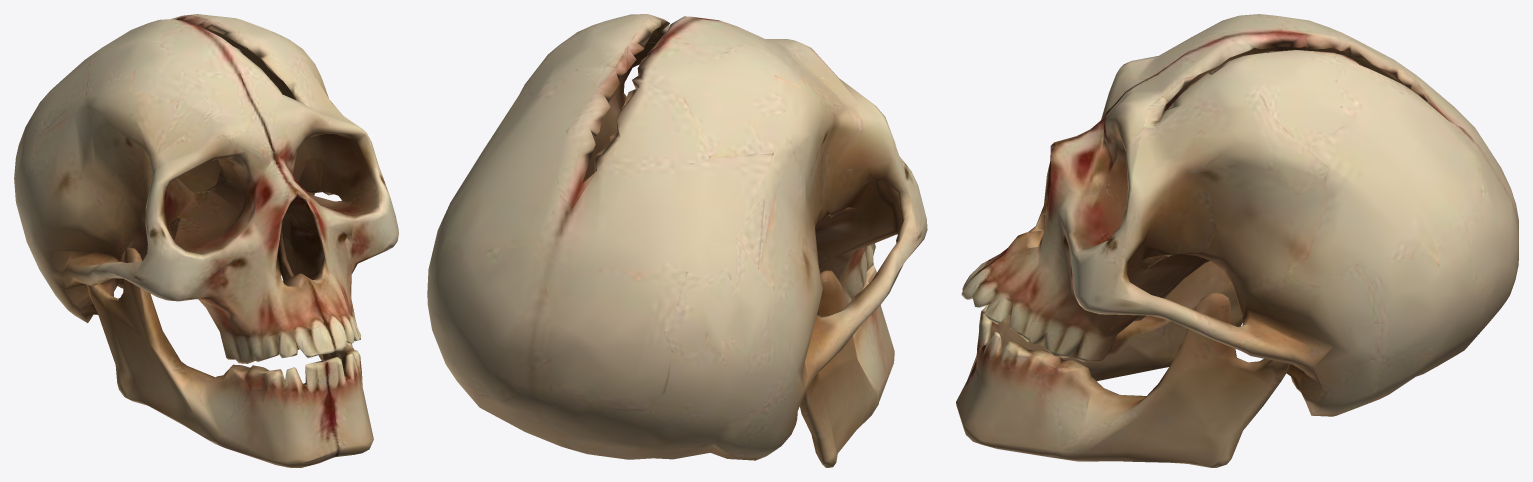
The model's file is skull4.glb.
3 renders of one model, left to right at view 1: azimuth 30°, elevation 25°; view 2: azimuth 150°, elevation 25°; view 3: azimuth 270°, elevation 25°, orthographic. The views are drawn at different scales.
Parts seen in each view (by area): view 1: Mesh_0; view 2: Mesh_0; view 3: Mesh_0.
Part boxes in pixels (<box>): Mesh_0: <box>14,14,398,467</box>; Mesh_0: <box>427,14,927,467</box>; Mesh_0: <box>956,14,1518,467</box>.
Size of the model in its own units: 1.22 by 1.45 by 1.9.
1 material, 1 textured.
